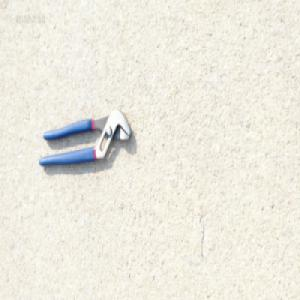Pliers: (37, 107, 132, 170)
